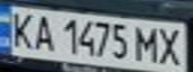1: (57, 16, 81, 55)
4: (75, 17, 96, 56)
5: (109, 20, 133, 61)
7: (93, 19, 112, 58)
A: (30, 12, 57, 52)
K: (3, 9, 39, 50)
M: (130, 24, 163, 63)
X: (154, 25, 187, 66)
